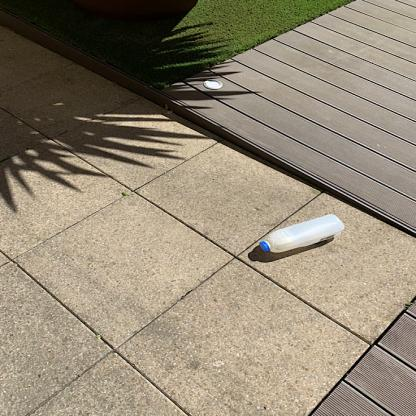trash: (258, 211, 348, 257)
